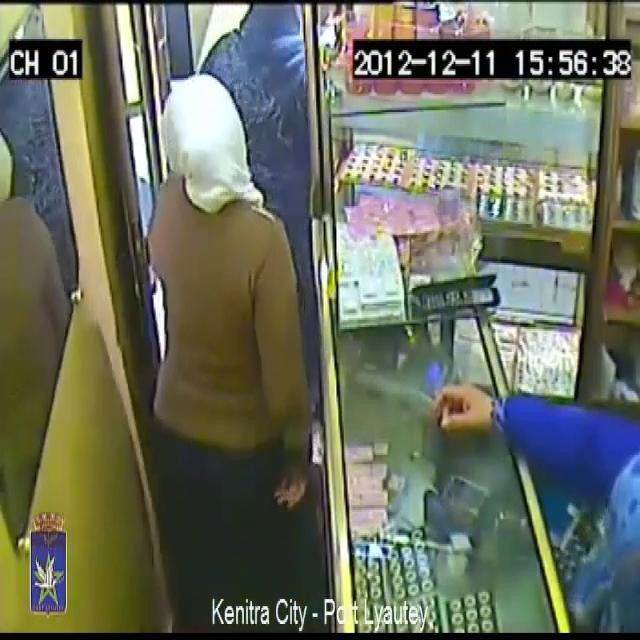normal: (97, 61, 320, 548), (435, 264, 640, 640), (148, 0, 323, 204)
